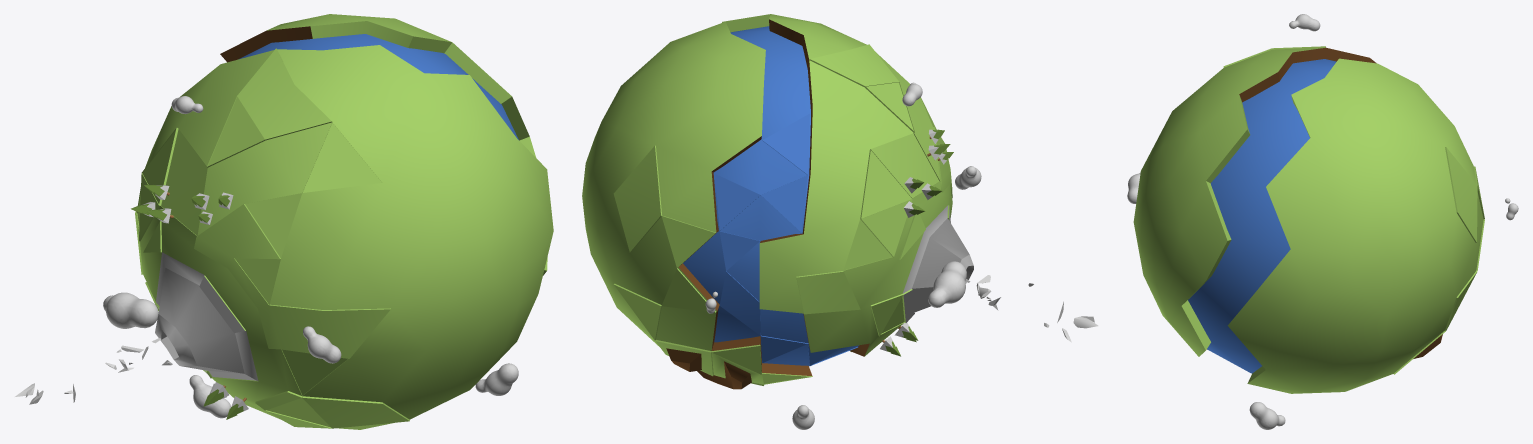
The model's file is Tierrajuas.fbx.
3 views of the same model, side by side, from view 1: azimuth 30°, elevation 25°; view 2: azimuth 150°, elevation 25°; view 3: azimuth 270°, elevation 25° (orthographic). The views are drawn at different scales.
Parts seen in each view (by area): view 1: Sphere, Sphere_1, Nube_1, Nube_5, Nube, Nube_2; view 2: Sphere, Sphere_1, Nube_1; view 3: Sphere, Sphere_1, Nube_5.
Boxes of the visible parts, bbox=[...] form: Sphere: bbox=[135, 14, 553, 429]; Sphere_1: bbox=[238, 34, 518, 139]; Nube_1: bbox=[103, 292, 158, 328]; Nube_5: bbox=[475, 363, 518, 395]; Nube: bbox=[189, 375, 231, 418]; Nube_2: bbox=[303, 326, 341, 363]; Sphere: bbox=[582, 14, 973, 389]; Sphere_1: bbox=[683, 26, 858, 366]; Nube_1: bbox=[928, 261, 966, 307]; Sphere: bbox=[1133, 46, 1484, 393]; Sphere_1: bbox=[1188, 59, 1336, 373]; Nube_5: bbox=[1249, 402, 1285, 429].
Bounding box in the file's own units: 736 × 515 × 559.
